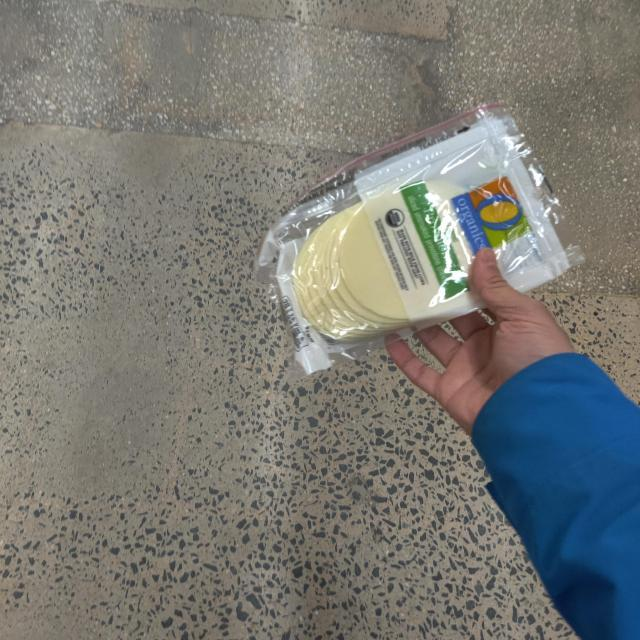Cheese: (257, 105, 570, 361)
